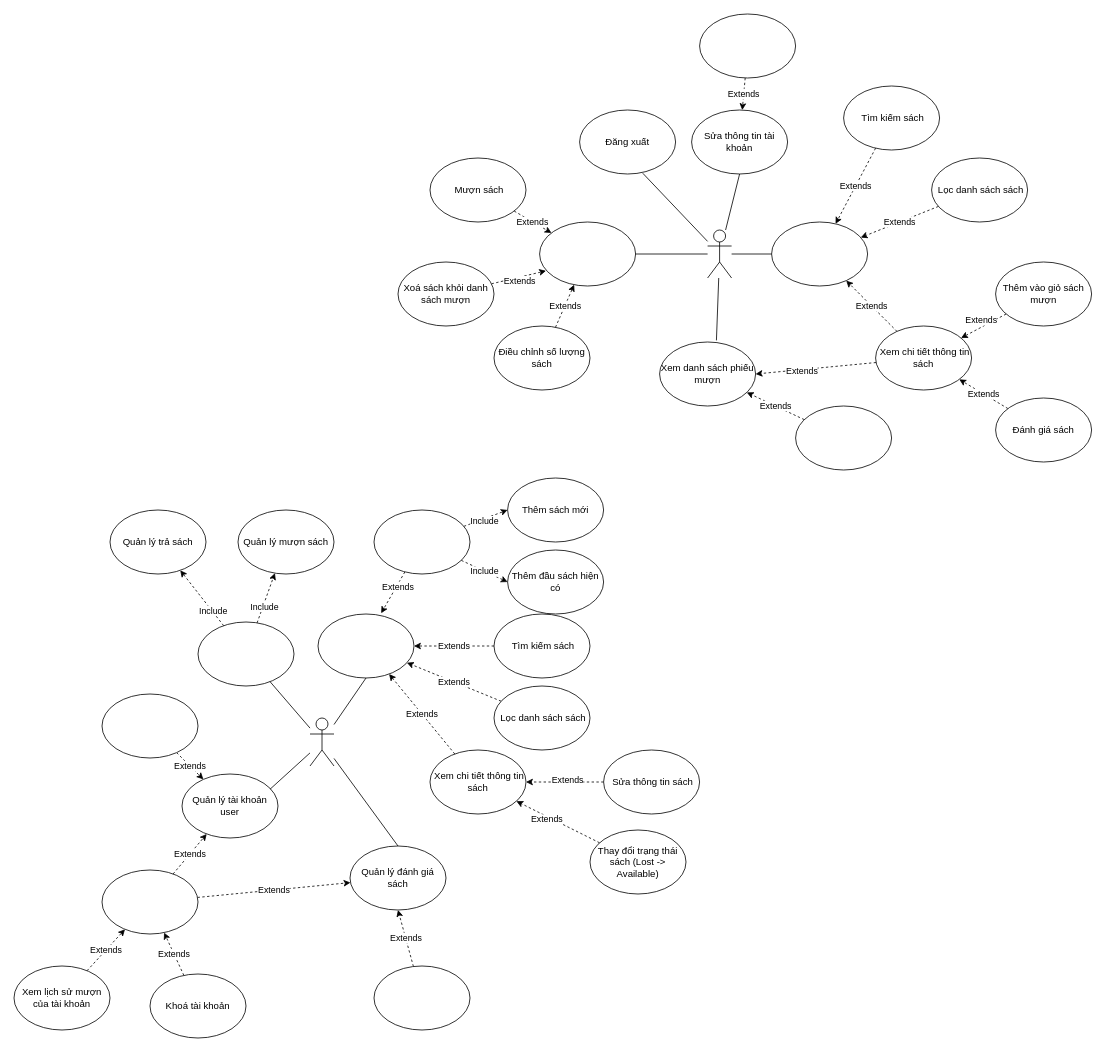
The diagram is 1106 pixels wide and 1052 high, and some of its shapes have lost their labels. Each missing label, with the centre of its shape:
Admin: point (321, 741)
Quản lý mượn trả sách: point (245, 653)
Quản lý sách: point (365, 645)
Thay đổi thông tin cá nhân: point (747, 45)
Thêm sách: point (421, 541)
Trả sách: point (843, 437)
Tìm kiếm tài khoản: point (149, 725)
User: point (719, 253)
Xem danh sách các sách: point (819, 253)
Xem giỏ sách mượn: point (587, 253)
Xem thông tin chi tiết tài khoản: point (149, 901)
Ẩn đánh giá sách vi phạm: point (421, 997)
